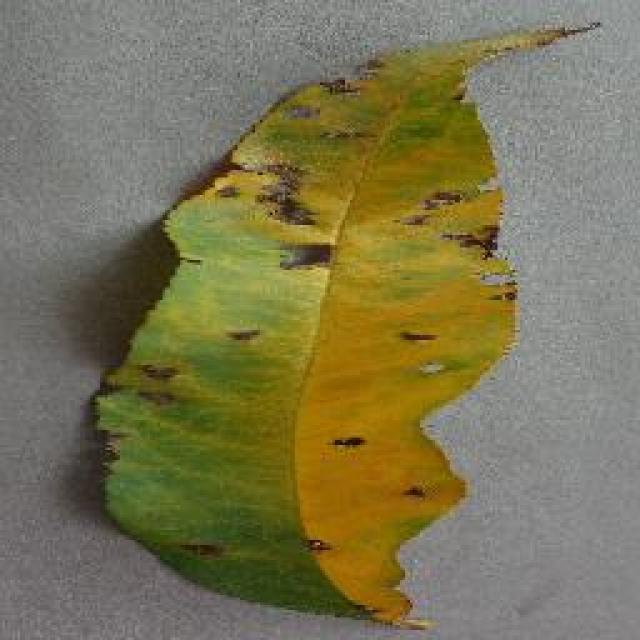Peach_Bacterial_Spot: (228, 46, 488, 482)
